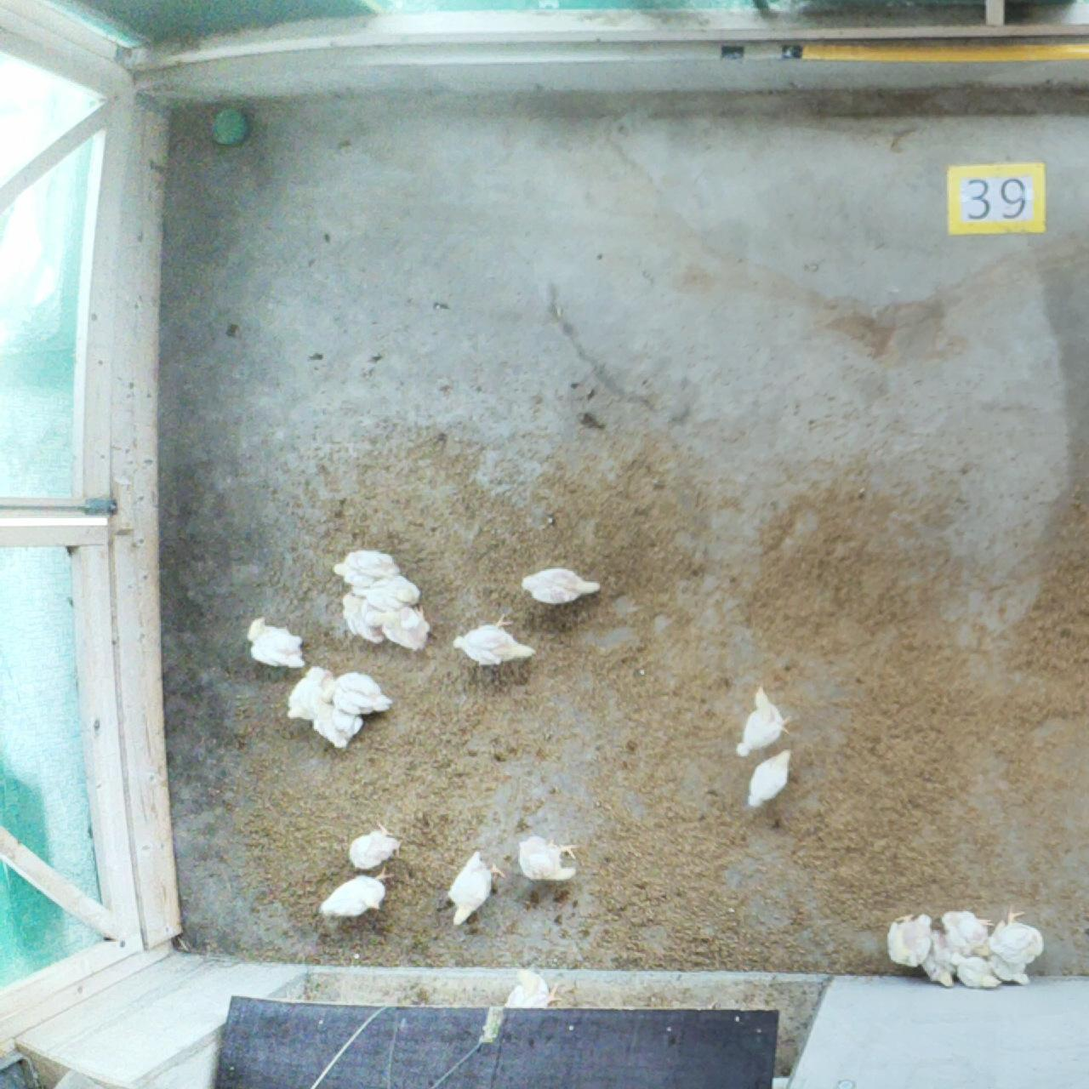chicken: (449, 611, 540, 670), (445, 849, 507, 928), (732, 681, 793, 761), (318, 862, 398, 922), (988, 902, 1048, 969), (365, 601, 434, 655), (243, 614, 307, 671), (322, 669, 395, 718), (515, 832, 581, 885), (518, 566, 604, 606), (345, 817, 406, 873), (882, 908, 934, 971), (746, 745, 796, 809), (330, 546, 401, 591), (285, 664, 338, 724), (349, 573, 425, 613), (313, 698, 366, 753), (338, 587, 385, 647), (939, 906, 995, 956), (919, 922, 959, 990), (949, 949, 1005, 989), (986, 944, 1035, 989)
